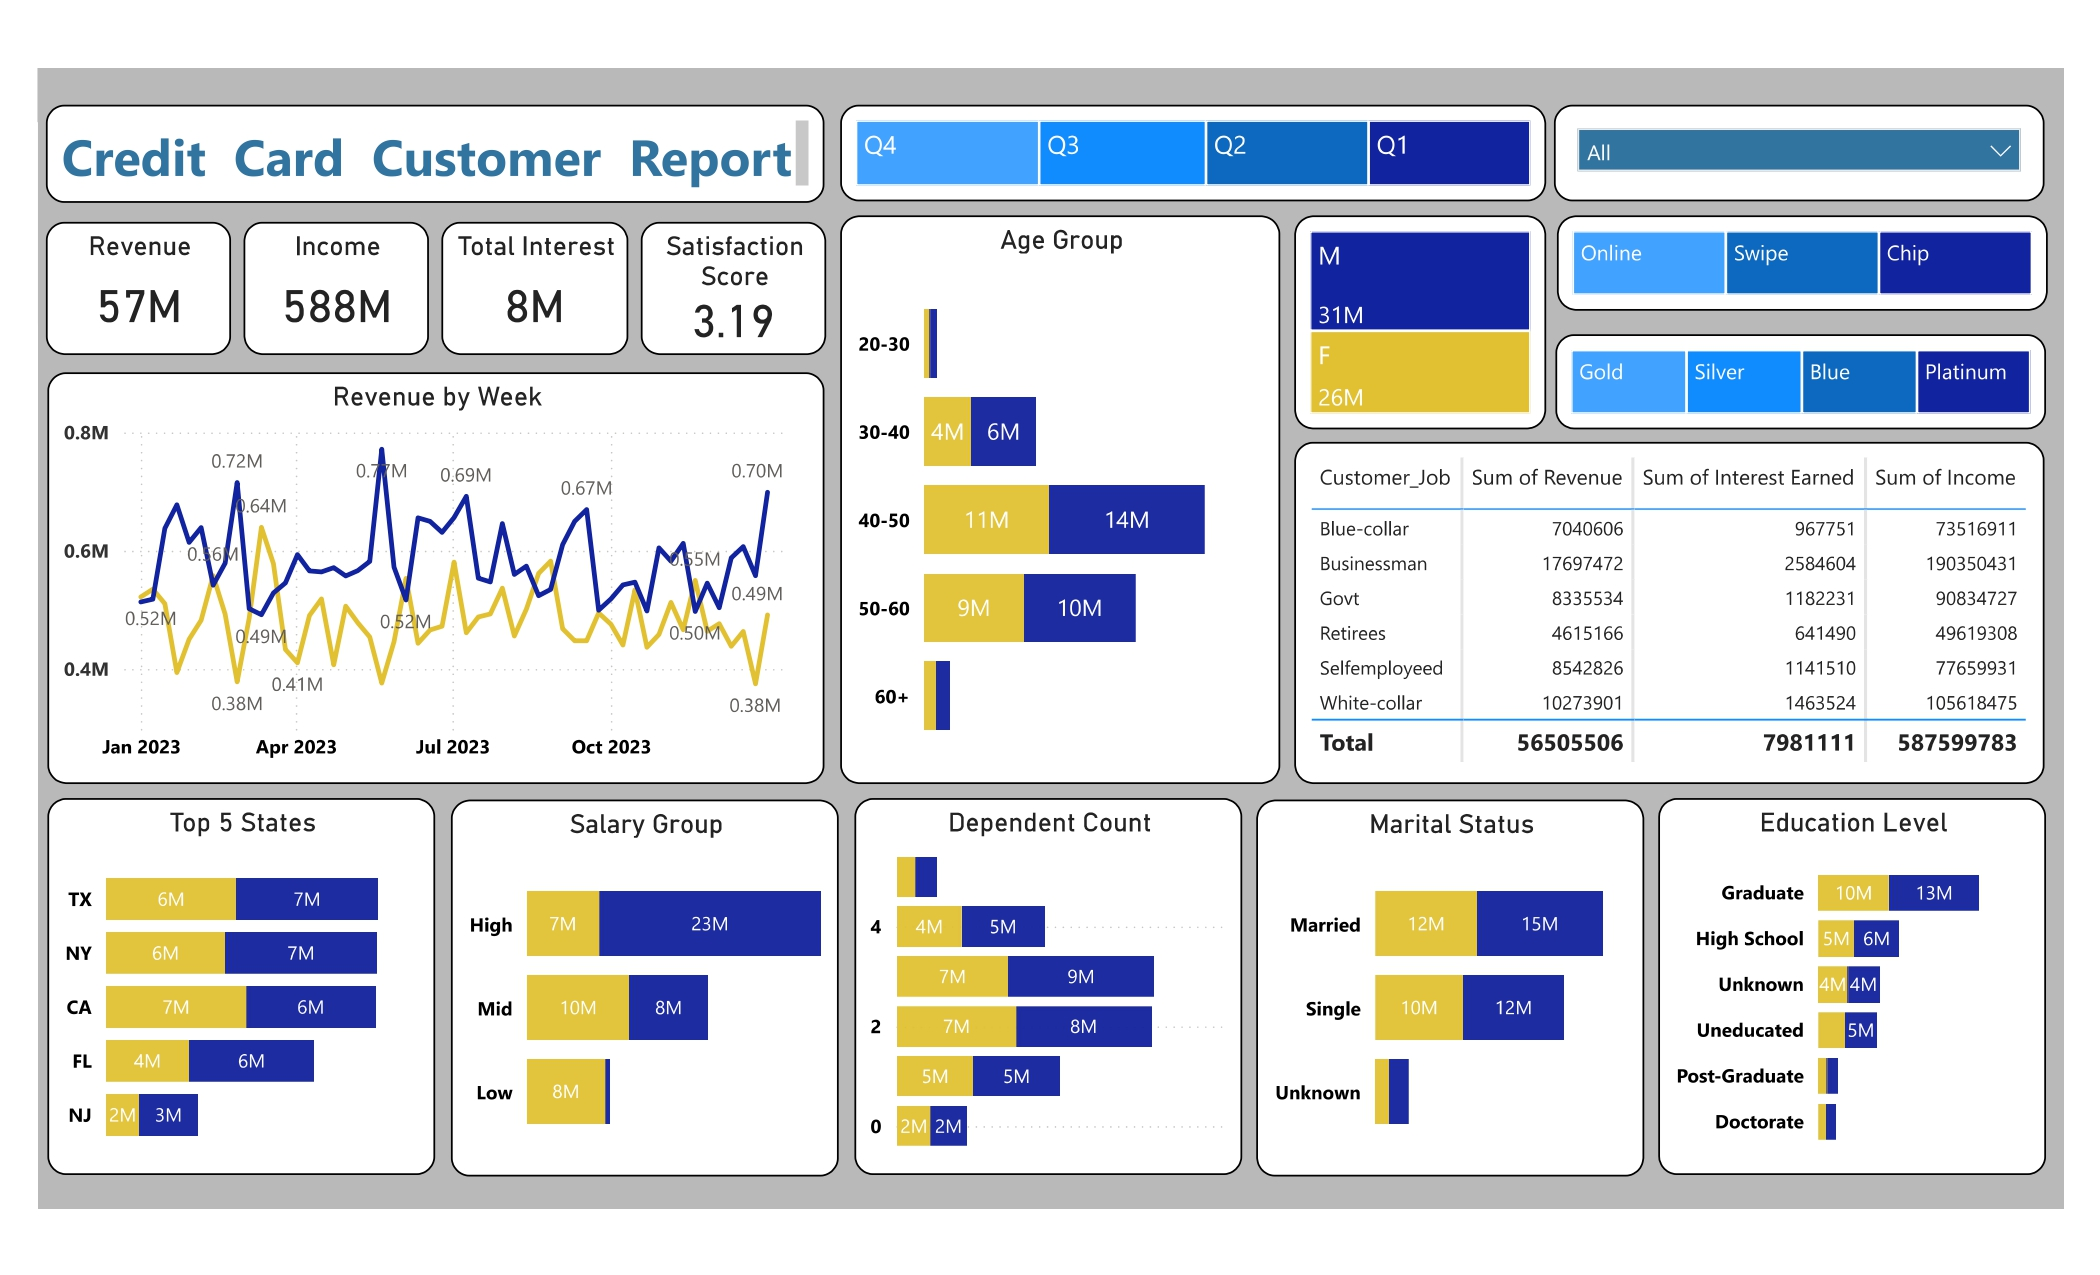

What the dashboard file says about the page in this screenshot:
{"tool":"powerbi","page":{"name":"CC Customer","canvas":[1280,720],"ordinal":2},"visuals":[{"type":"textbox","box":[4.8,22.9,492.2,62],"z":0},{"type":"barChart","title":"Salary Group","fields":{"Y":["Sum(ccdb cc_detail.Revenue)"],"Category":["ccdb cust_detail.IncomeGroup"],"Series":["ccdb cust_detail.Gender"]},"box":[261,462.1,244.9,237.7],"z":1000},{"type":"tableEx","fields":{"Values":["ccdb cust_detail.Customer_Job","Sum(ccdb cc_detail.Revenue)","Sum(ccdb cc_detail.Interest_Earned)","Sum(ccdb cust_detail.Income)"]},"box":[793.8,236.5,474.1,216],"z":2000},{"type":"card","title":"Revenue","fields":{"Values":["Sum(ccdb cc_detail.Revenue)"]},"box":[4.8,96.5,117,84.5],"z":3000},{"type":"card","title":"Income","fields":{"Values":["Sum(ccdb cust_detail.Income)"]},"box":[130,96.5,117,84.5],"z":4000},{"type":"card","title":"Total Interest","fields":{"Values":["Sum(ccdb cc_detail.Interest_Earned)"]},"box":[255,96.5,118,84.5],"z":5000},{"type":"card","title":"Satisfaction Score","fields":{"Values":["Avg(ccdb cust_detail.Cust_Satisfaction_Score)"]},"box":[381.2,96.5,117,84.5],"z":6000},{"type":"slicer","fields":{"Values":["ccdb cc_detail.Week_Start_Date"]},"box":[957.9,22.9,310.1,61.5],"z":7000},{"type":"treemap","fields":{"Group":["ccdb cc_detail.Qtr"],"Values":["Avg(ccdb cc_detail.Client_Num)"]},"box":[506.7,22.9,446.4,61.5],"z":8000},{"type":"treemap","fields":{"Group":["ccdb cc_detail.Card_CAtegory"],"Values":["Avg(ccdb cc_detail.Client_Num)"]},"box":[959.1,167.7,310.1,60.3],"z":9000},{"type":"treemap","fields":{"Group":["ccdb cc_detail.Use_Chip"],"Values":["Max(ccdb cc_detail.Client_Num)"]},"box":[960.3,92.9,310.1,60.3],"z":10000},{"type":"lineChart","title":"Revenue by Week","fields":{"Y":["Sum(ccdb cc_detail.Revenue)"],"Category":["ccdb cc_detail.Week_Start_Date.Variation.Date Hierarchy.Year","ccdb cc_detail.Week_Start_Date.Variation.Date Hierarchy.Month","ccdb cc_detail.Week_Start_Date.Variation.Date Hierarchy.Day"],"Series":["ccdb cust_detail.Gender"]},"box":[6,191.8,491,260.6],"z":11000},{"type":"treemap","fields":{"Group":["ccdb cust_detail.Gender"],"Values":["Sum(ccdb cc_detail.Revenue)"]},"box":[793.8,92.9,159.3,135.1],"z":12000},{"type":"barChart","title":"Age Group","fields":{"Y":["Sum(ccdb cc_detail.Revenue)"],"Category":["ccdb cust_detail.AgeGroup"],"Series":["ccdb cust_detail.Gender"]},"box":[506.7,92.9,278.7,359.5],"z":13000},{"type":"barChart","title":"Dependent Count","fields":{"Y":["Sum(ccdb cc_detail.Revenue)"],"Series":["ccdb cust_detail.Gender"],"Category":["ccdb cust_detail.Dependent_Count"]},"box":[516.4,460.9,244.9,237.7],"z":14000},{"type":"barChart","title":"Education Level","fields":{"Y":["Sum(ccdb cc_detail.Revenue)"],"Category":["ccdb cust_detail.Education_Level"],"Series":["ccdb cust_detail.Gender"]},"box":[1024.3,460.9,244.9,237.7],"z":15000},{"type":"barChart","title":"Top 5 States","fields":{"Y":["Sum(ccdb cc_detail.Revenue)"],"Category":["ccdb cust_detail.State_cd"],"Series":["ccdb cust_detail.Gender"]},"box":[6,460.9,244.9,237.7],"z":16000},{"type":"barChart","title":"Marital Status","fields":{"Y":["Sum(ccdb cc_detail.Revenue)"],"Series":["ccdb cust_detail.Gender"],"Category":["ccdb cust_detail.Marital_Status"]},"box":[769.7,462.1,244.9,237.7],"z":17000}]}

Visuals, with their boxes in screenshot pixels (x1, y1, x2, y2):
textbox: 51, 107, 819, 204
"Salary Group" barChart: 451, 792, 833, 1163
tableEx - ccdb cust_detail.Customer_Job x Sum(ccdb cc_detail.Revenue): 1283, 440, 2022, 777
"Revenue" card: 51, 222, 234, 354
"Income" card: 247, 222, 429, 354
"Total Interest" card: 442, 222, 626, 354
"Satisfaction Score" card: 639, 222, 821, 354
slicer - ccdb cc_detail.Week_Start_Date: 1539, 107, 2023, 203
treemap - ccdb cc_detail.Qtr x Avg(ccdb cc_detail.Client_Num): 835, 107, 1531, 203
treemap - ccdb cc_detail.Card_CAtegory x Avg(ccdb cc_detail.Client_Num): 1541, 333, 2024, 427
treemap - ccdb cc_detail.Use_Chip x Max(ccdb cc_detail.Client_Num): 1542, 216, 2026, 310
"Revenue by Week" lineChart: 53, 370, 819, 777
treemap - ccdb cust_detail.Gender x Sum(ccdb cc_detail.Revenue): 1283, 216, 1531, 427
"Age Group" barChart: 835, 216, 1269, 777
"Dependent Count" barChart: 850, 790, 1232, 1161
"Education Level" barChart: 1642, 790, 2024, 1161
"Top 5 States" barChart: 53, 790, 435, 1161
"Marital Status" barChart: 1245, 792, 1627, 1163
